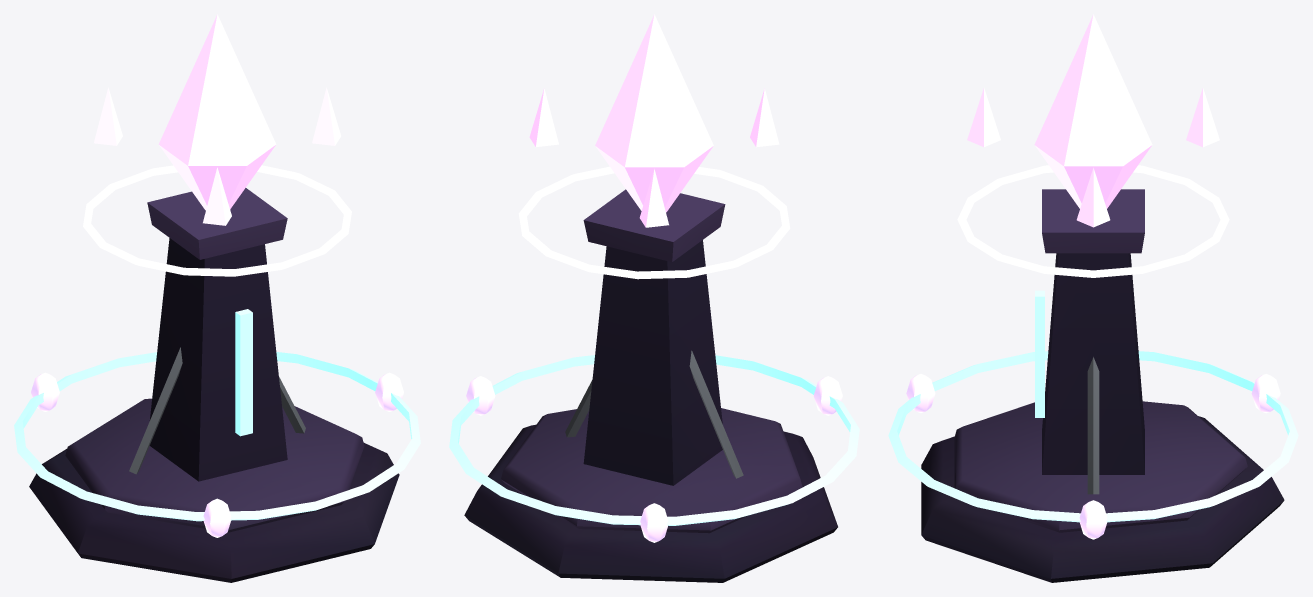
The model's file is ombres_8.glb.
3 renders of one model, left to right at view 1: azimuth 30°, elevation 25°; view 2: azimuth 150°, elevation 25°; view 3: azimuth 270°, elevation 25°, orthographic.
Visible parts, largest first — view 1: ombres_8_peint, Cristal_lueur, Rune, Givre, Eclats_lueur, AnneauFlottant_lueur, Rune.001; view 2: ombres_8_peint, Cristal_lueur, Rune, Givre, Eclats_lueur, AnneauFlottant_lueur; view 3: ombres_8_peint, Cristal_lueur, Rune, Givre, Eclats_lueur, AnneauFlottant_lueur, Rune.001.
Boxes of the visible parts, x1,y1,x2,y2 form: ombres_8_peint: (29,188,399,582); Cristal_lueur: (158,14,276,210); Rune: (14,352,420,521); Givre: (83,165,351,276); Eclats_lueur: (94,87,340,225); AnneauFlottant_lueur: (31,372,403,537); Rune.001: (235,309,252,436); ombres_8_peint: (464,189,837,582); Cristal_lueur: (595,14,713,212); Rune: (449,355,859,525); Givre: (518,166,790,279); Eclats_lueur: (529,88,779,227); AnneauFlottant_lueur: (466,376,842,542); ombres_8_peint: (921,189,1284,582); Cristal_lueur: (1034,14,1152,208); Rune: (888,351,1298,522); Givre: (957,165,1229,277); Eclats_lueur: (967,88,1219,227); AnneauFlottant_lueur: (906,374,1280,539); Rune.001: (1035,290,1044,417).
Bounding box in the file's own units: 0.858 × 1.12 × 0.844.
